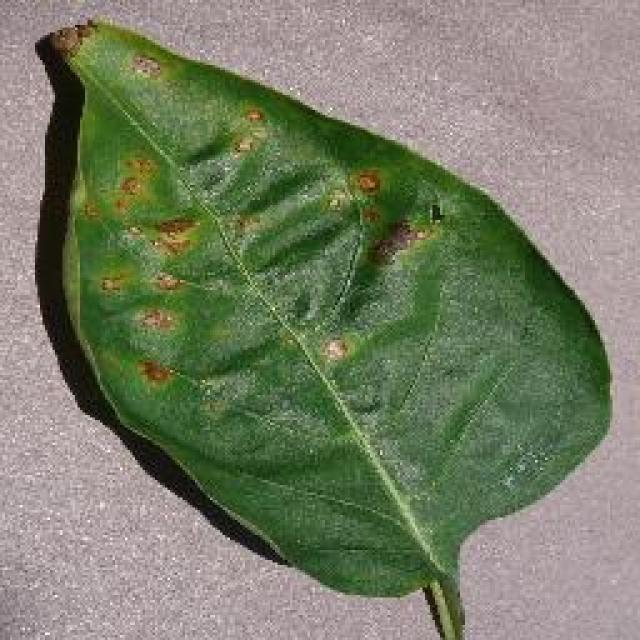Chilli_Bacterial_Spot: (30, 13, 618, 635), (75, 95, 445, 403), (90, 148, 205, 390), (108, 150, 158, 215), (222, 100, 272, 162), (45, 15, 97, 65), (148, 212, 202, 260), (132, 302, 178, 338), (133, 352, 175, 390), (125, 50, 165, 82), (92, 268, 132, 300), (145, 265, 185, 295), (350, 165, 382, 200), (318, 333, 350, 365), (320, 185, 350, 217), (228, 130, 258, 160), (422, 198, 448, 228), (237, 102, 265, 128)
